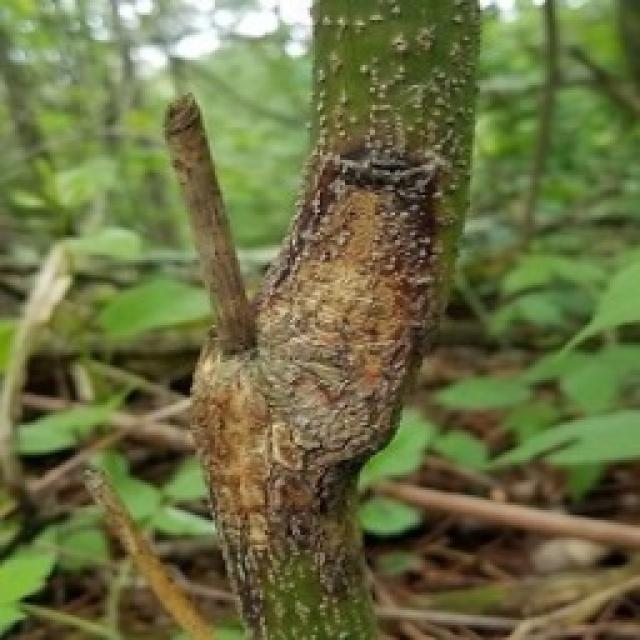Golden_canker: (139, 29, 490, 640)
